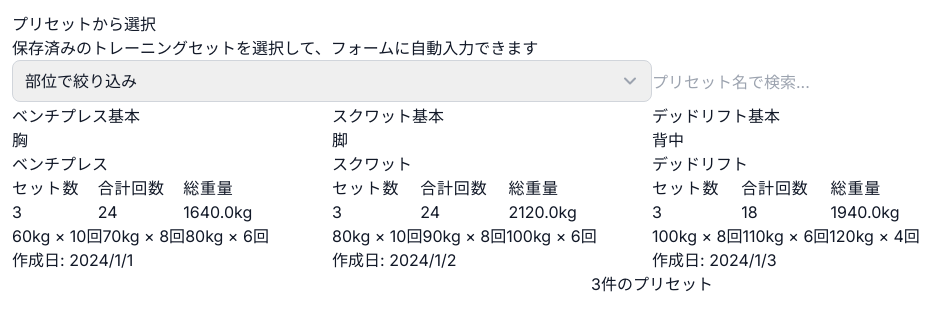
it: PresetSelector › フィルタリング › 部位フィルターでプリセットが絞り込まれる
Select "胸" in the dropdown named "部位で絞り込み" at (332, 81), box [12,60,652,102]
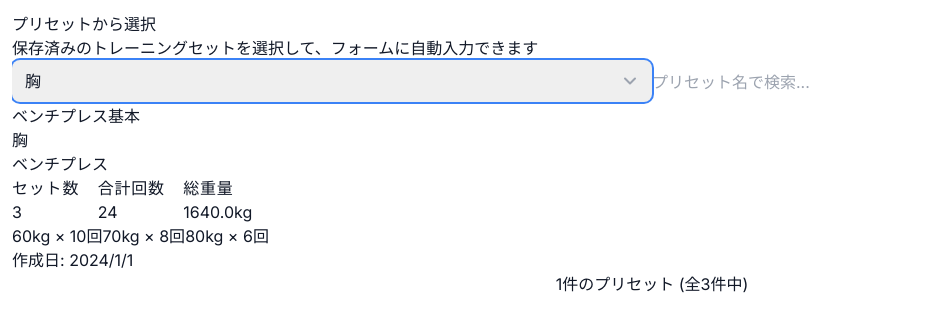
Expected: the text "ベンチプレス基本" is shown, [12,104,140,128]
Now the list item "スクワット基本" is gone
Now the list item "デッドリフト基本" is gone
